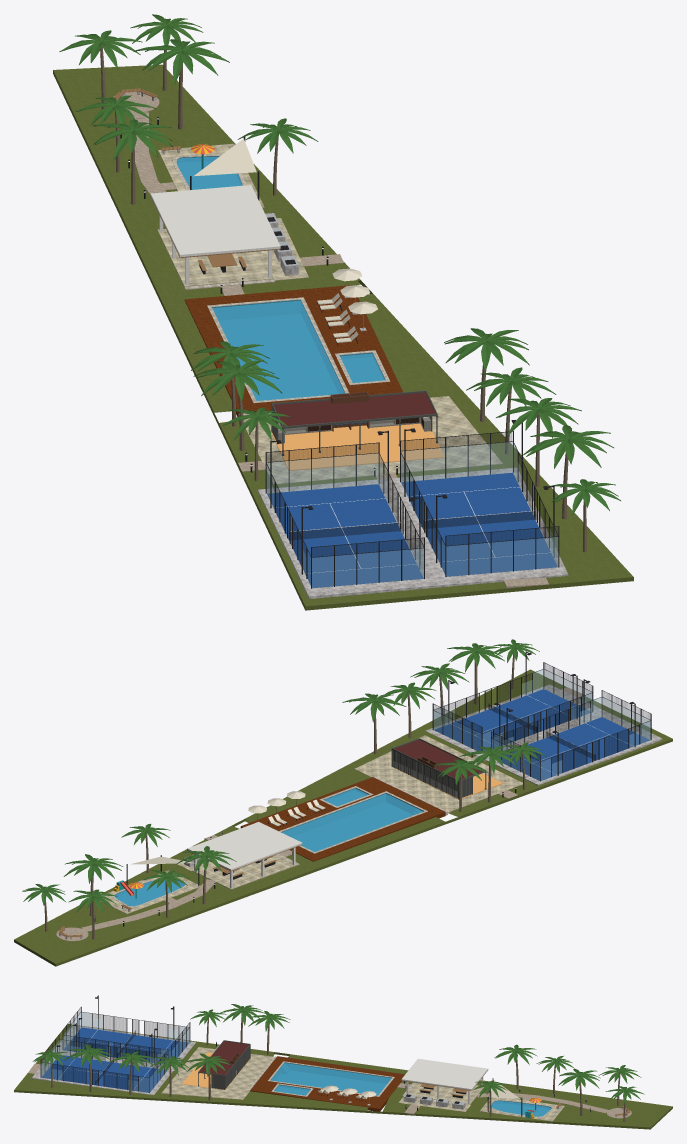
The model's file is casa_club.glb.
The picture shows the model from 3 angles, top to bottom: view 1: azimuth 30°, elevation 25°; view 2: azimuth 150°, elevation 25°; view 3: azimuth 270°, elevation 25°; orthographic projection. The views are drawn at different scales.
Parts seen in each view (by area): view 1: casa_club; view 2: casa_club; view 3: casa_club.
Boxes of the visible parts, bbox=[...] form: casa_club: bbox=[53, 14, 633, 610]; casa_club: bbox=[14, 639, 672, 966]; casa_club: bbox=[14, 995, 672, 1129].
Size of the model in its own units: 45.93 by 9.49 by 116.
37 materials, 14 textured.
